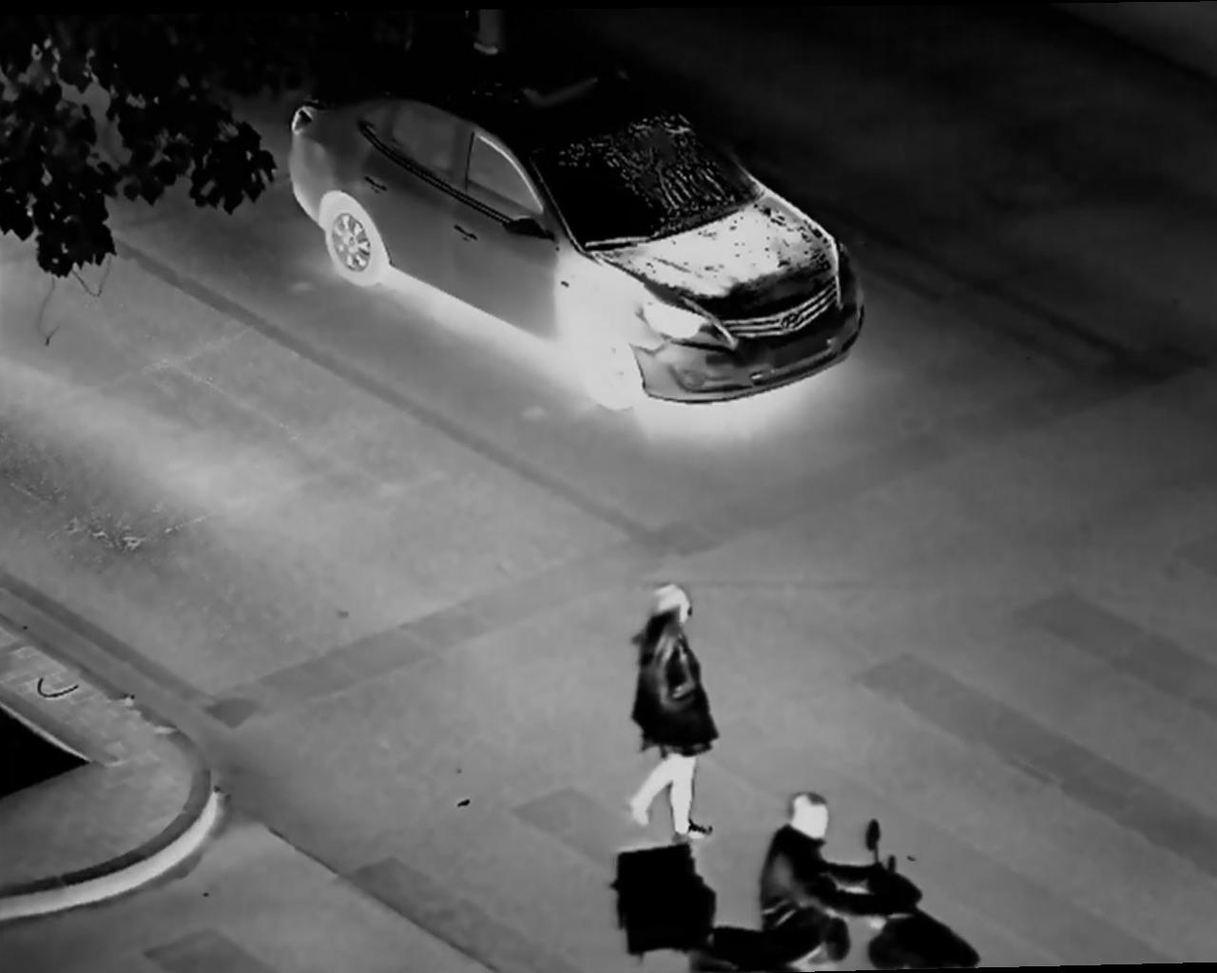person: (611, 576, 722, 870), (761, 779, 885, 972)
